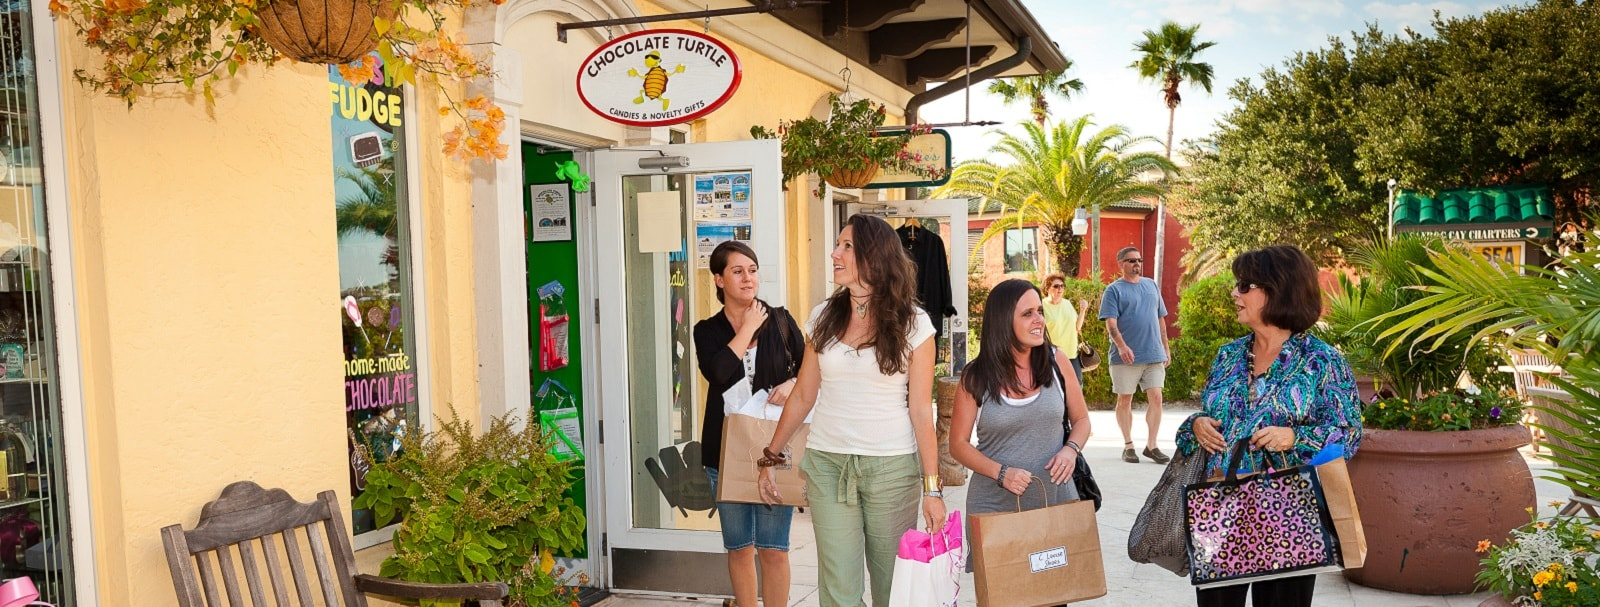Age_20_30: (711, 241, 765, 301)
Age_30_40: (830, 219, 902, 290), (994, 279, 1052, 356)
Age_40_50: (1227, 250, 1312, 331), (1120, 245, 1147, 276)
E_White: (1227, 250, 1312, 331), (830, 219, 902, 290), (994, 279, 1052, 356), (711, 241, 765, 301), (1120, 245, 1147, 276)
Emotion_Happy: (830, 219, 902, 290), (994, 279, 1052, 356), (711, 241, 765, 301)
Emotion_Neutral: (1227, 250, 1312, 331), (1120, 245, 1147, 276)
G_ Female: (1227, 250, 1312, 331), (830, 219, 902, 290), (994, 279, 1052, 356), (711, 241, 765, 301)
G_Male: (1120, 245, 1147, 276)
